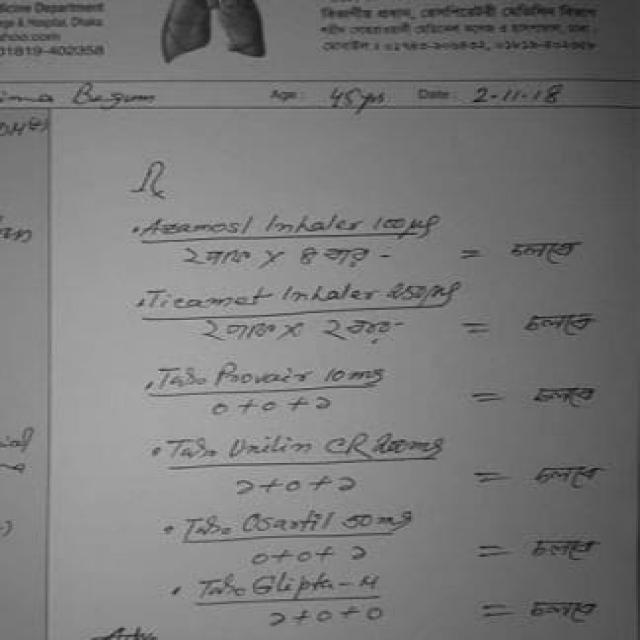medicine: (225, 496, 338, 538), (218, 424, 324, 466), (145, 282, 274, 316), (140, 206, 260, 238), (213, 351, 314, 388), (251, 568, 341, 596)
